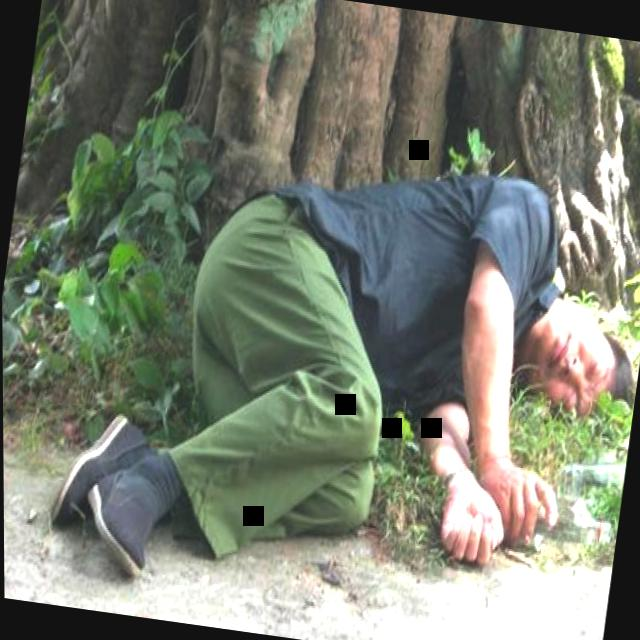Fall-Detected: (27, 73, 640, 640)
